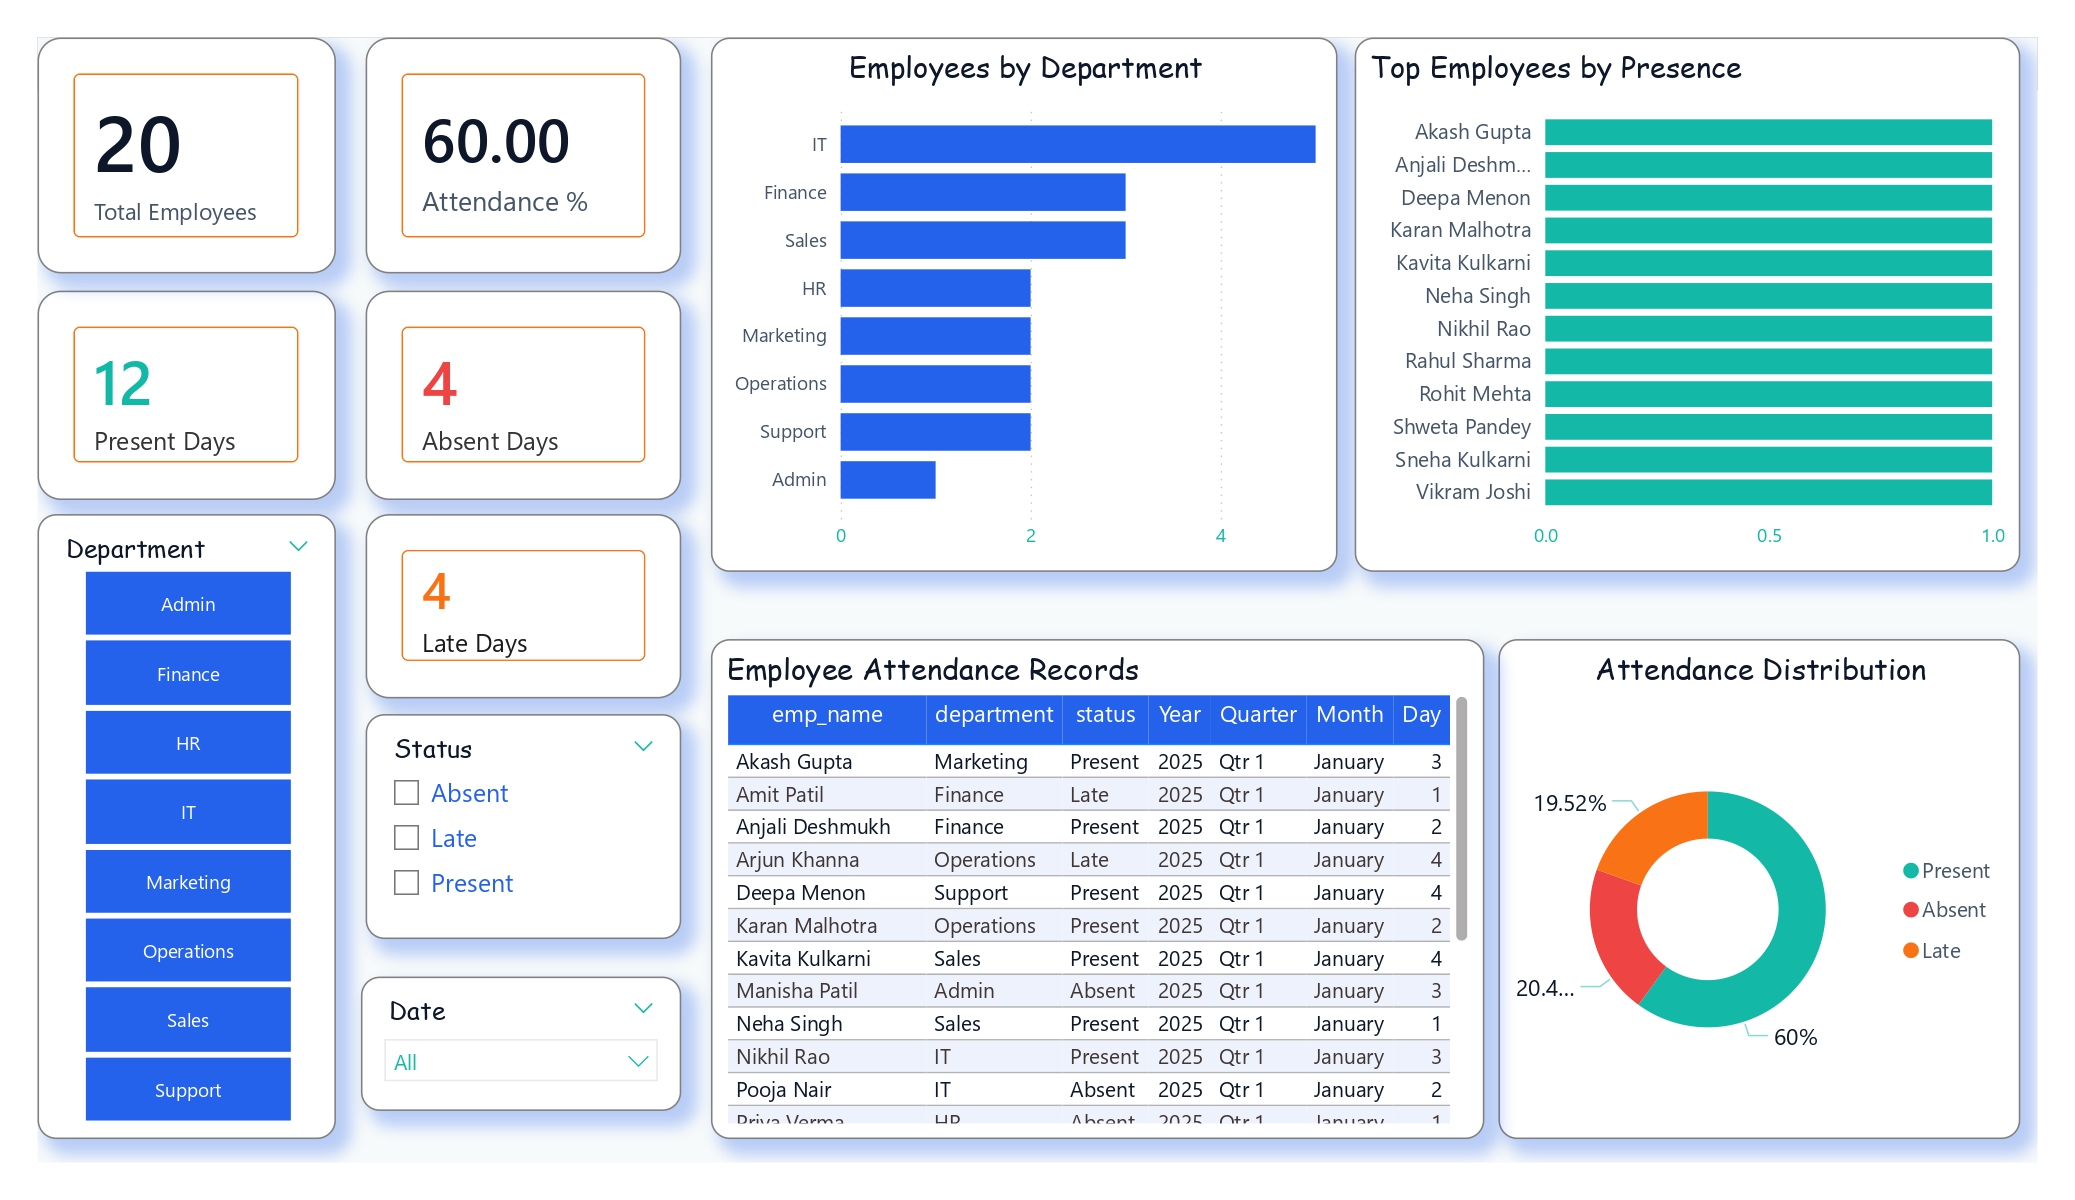

This screenshot's page, from the dashboard's own definition file:
{"tool":"powerbi","page":{"name":"Page 1","canvas":[1280,720],"ordinal":0},"visuals":[{"type":"cardVisual","fields":{"Data":["Attendance.Attendance %"]},"box":[210,0,202,151.1],"z":0},{"type":"cardVisual","fields":{"Data":["Attendance.Present Days"]},"box":[0,162.2,190.9,133.6],"z":1000},{"type":"cardVisual","fields":{"Data":["Attendance.Absent Days"]},"box":[210,162.2,202,133.6],"z":2000},{"type":"cardVisual","fields":{"Data":["Attendance.Late Days"]},"box":[210,305.4,202,117.7],"z":3000},{"type":"cardVisual","fields":{"Data":["Employee.Total Employees"]},"box":[0,0,190.9,151.1],"z":4000},{"type":"clusteredBarChart","title":"Employees by Department","fields":{"Category":["Employee.department"],"Y":["Employee.emp_id"]},"box":[431.1,0,400.8,342],"z":5000},{"type":"donutChart","title":"Attendance Distribution","fields":{"Category":["Attendance.status"],"Y":["Attendance.attendance_id"]},"box":[935.3,384.9,334,319.7],"z":6000},{"type":"tableEx","title":"Employee Attendance Records","fields":{"Values":["Employee.emp_name","Employee.department","Attendance.status","Attendance.date.Variation.Date Hierarchy.Year","Attendance.date.Variation.Date Hierarchy.Quarter","Attendance.date.Variation.Date Hierarchy.Month","Attendance.date.Variation.Date Hierarchy.Day"]},"box":[431.1,384.9,494.7,319.7],"z":7000},{"type":"barChart","title":"Top Employees by Presence","fields":{"Y":["Attendance.Present Count"],"Category":["Employee.emp_name"]},"box":[843,0,426.3,342],"z":8000},{"type":"slicer","fields":{"Values":["Employee.department"]},"box":[0,305.4,190.9,399.2],"z":9000},{"type":"slicer","fields":{"Values":["Attendance.date","Attendance.date.Variation.Date Hierarchy.Year","Attendance.date.Variation.Date Hierarchy.Quarter","Attendance.date.Variation.Date Hierarchy.Month","Attendance.date.Variation.Date Hierarchy.Day"]},"box":[206.8,601.3,205.2,85.9],"z":10000},{"type":"slicer","fields":{"Values":["Attendance.status"]},"box":[210,432.6,202,144.7],"z":11000}]}

Visuals, with their boxes on the page's 1280x720 design canvas (x1, y1, x2, y2). These are canvas units, not pixel positions in the 2075x1200 screenshot, which may show the page scaled, cropped or inside an application window:
cardVisual - Attendance.Attendance %: {"x1": 210, "y1": 0, "x2": 412, "y2": 151}
cardVisual - Attendance.Present Days: {"x1": 0, "y1": 162, "x2": 191, "y2": 296}
cardVisual - Attendance.Absent Days: {"x1": 210, "y1": 162, "x2": 412, "y2": 296}
cardVisual - Attendance.Late Days: {"x1": 210, "y1": 305, "x2": 412, "y2": 423}
cardVisual - Employee.Total Employees: {"x1": 0, "y1": 0, "x2": 191, "y2": 151}
"Employees by Department" clusteredBarChart: {"x1": 431, "y1": 0, "x2": 832, "y2": 342}
"Attendance Distribution" donutChart: {"x1": 935, "y1": 385, "x2": 1269, "y2": 705}
"Employee Attendance Records" tableEx: {"x1": 431, "y1": 385, "x2": 926, "y2": 705}
"Top Employees by Presence" barChart: {"x1": 843, "y1": 0, "x2": 1269, "y2": 342}
slicer - Employee.department: {"x1": 0, "y1": 305, "x2": 191, "y2": 705}
slicer - Attendance.date x Attendance.date.Variation.Date Hierarchy.Year: {"x1": 207, "y1": 601, "x2": 412, "y2": 687}
slicer - Attendance.status: {"x1": 210, "y1": 433, "x2": 412, "y2": 577}
